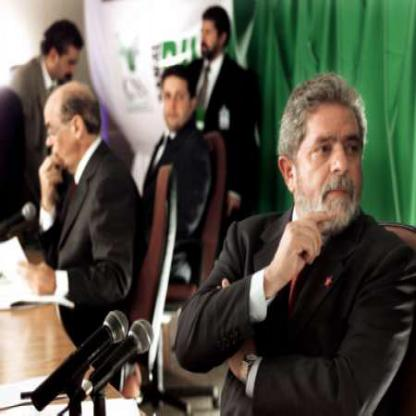face: (295, 76, 368, 232), (161, 68, 193, 131), (58, 28, 83, 89), (200, 9, 223, 60)
